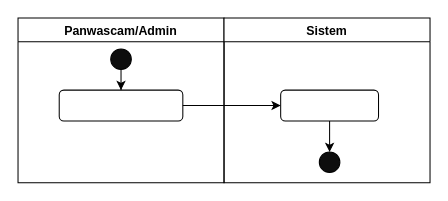
Some shapes in this 448 by 201 pixel diagram are drawn without their labels. The box of each missing label's shape, as (x1, y1, x2, y2) in pixels:
Memilih menu Logout: (58, 89, 183, 121)
Sistem mengakhiri sesi: (280, 89, 379, 121)
